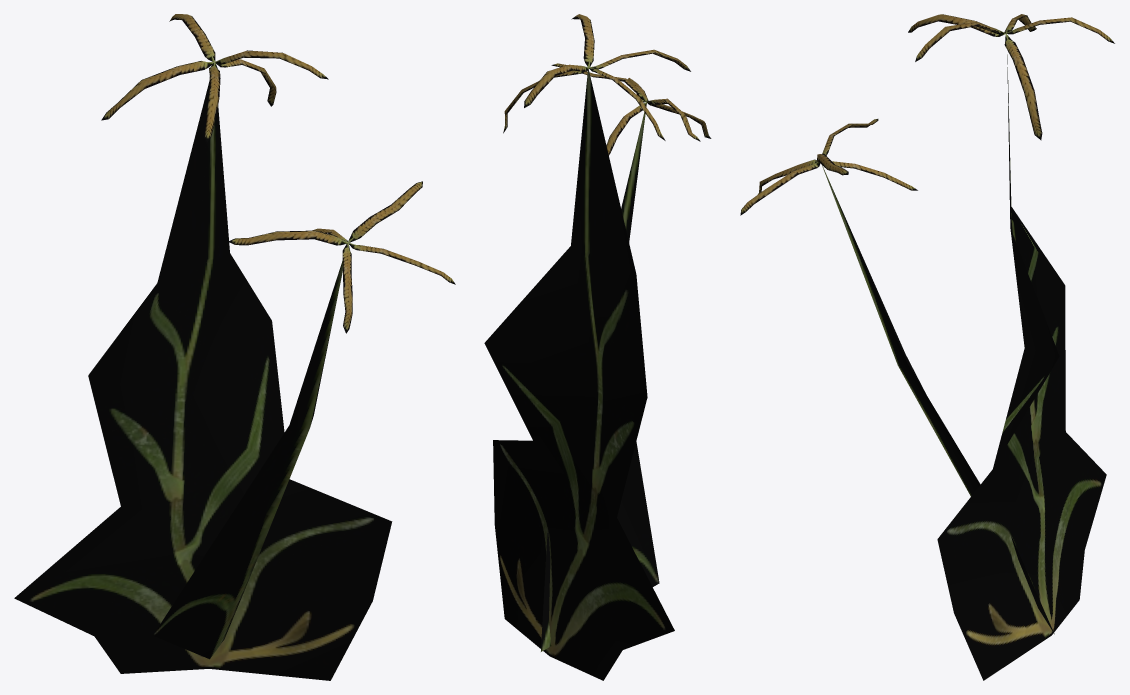
Rendered from grass_b_near.gltf.
The picture shows the model from 3 angles, left to right: view 1: azimuth 30°, elevation 25°; view 2: azimuth 150°, elevation 25°; view 3: azimuth 270°, elevation 25°; orthographic projection. The views are drawn at different scales.
Parts seen in each view (by area): view 1: grass_b_near; view 2: grass_b_near; view 3: grass_b_near.
Part boxes in pixels (bbox=[...]): grass_b_near: bbox=[14, 14, 455, 680]; grass_b_near: bbox=[484, 14, 711, 680]; grass_b_near: bbox=[740, 14, 1114, 680].
Size of the model in its own units: 0.1922 by 0.42 by 0.2294.
1 material, 1 textured.
